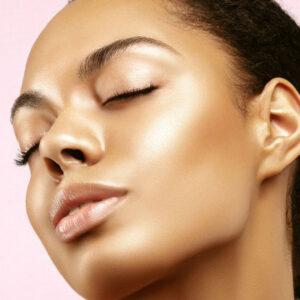Normal-Skin: (25, 38, 210, 272)
